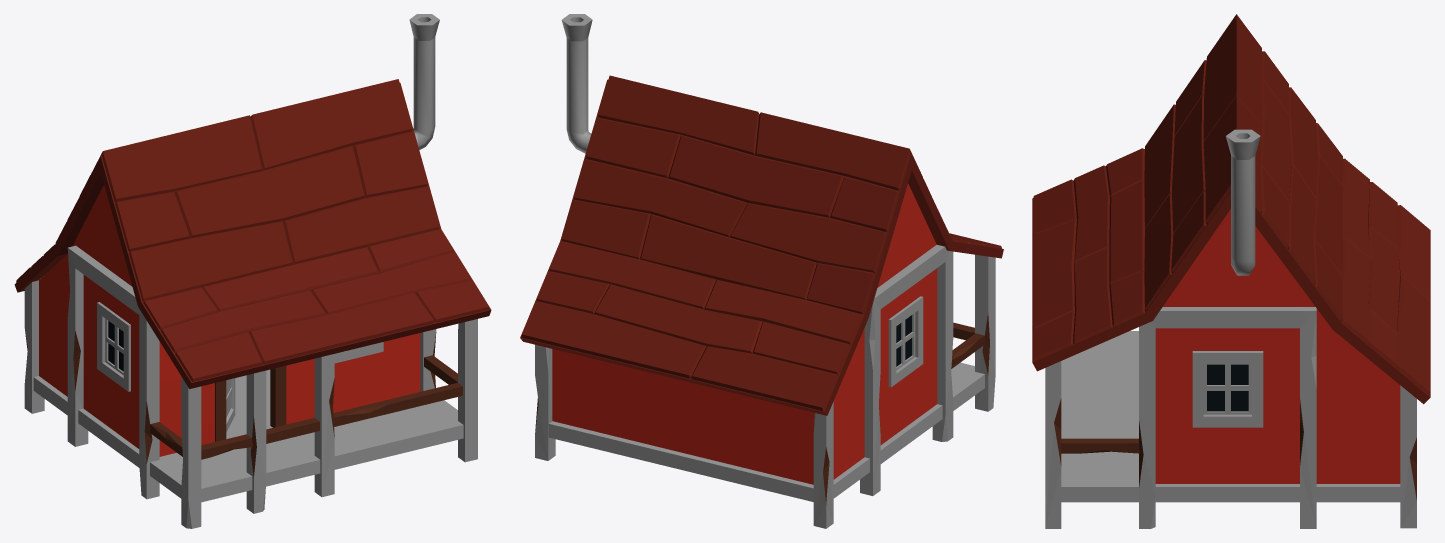
File: House_5.fbx
3 views of the same model, side by side, from view 1: azimuth 30°, elevation 25°; view 2: azimuth 150°, elevation 25°; view 3: azimuth 270°, elevation 25° (orthographic). The views are drawn at different scales.
Parts seen in each view (by area): view 1: House_5; view 2: House_5; view 3: House_5.
Boxes of the visible parts, bbox=[...] form: House_5: bbox=[14, 14, 491, 528]; House_5: bbox=[520, 14, 1003, 528]; House_5: bbox=[1032, 14, 1430, 528].
Size of the model in its own units: 178 by 185 by 162.
